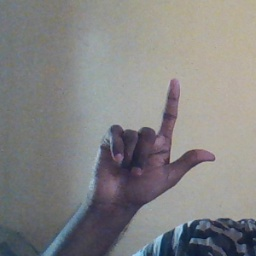L: (87, 76, 218, 210)
